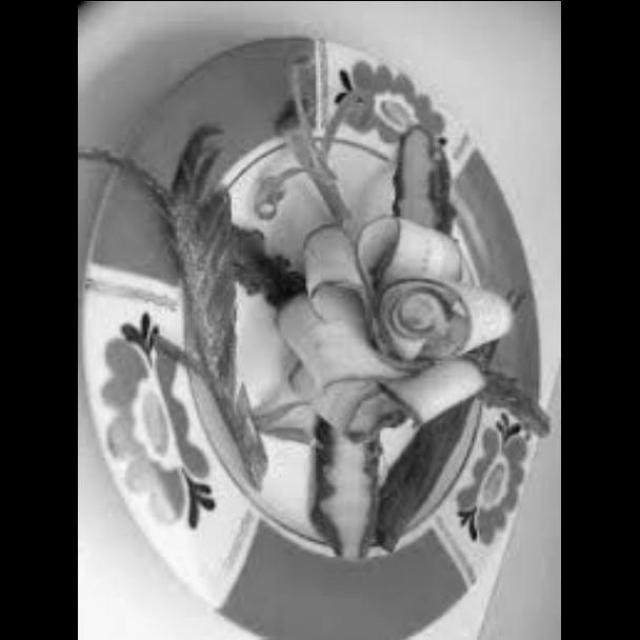cucumber: (300, 196, 485, 438), (314, 413, 394, 560), (395, 121, 464, 252)
